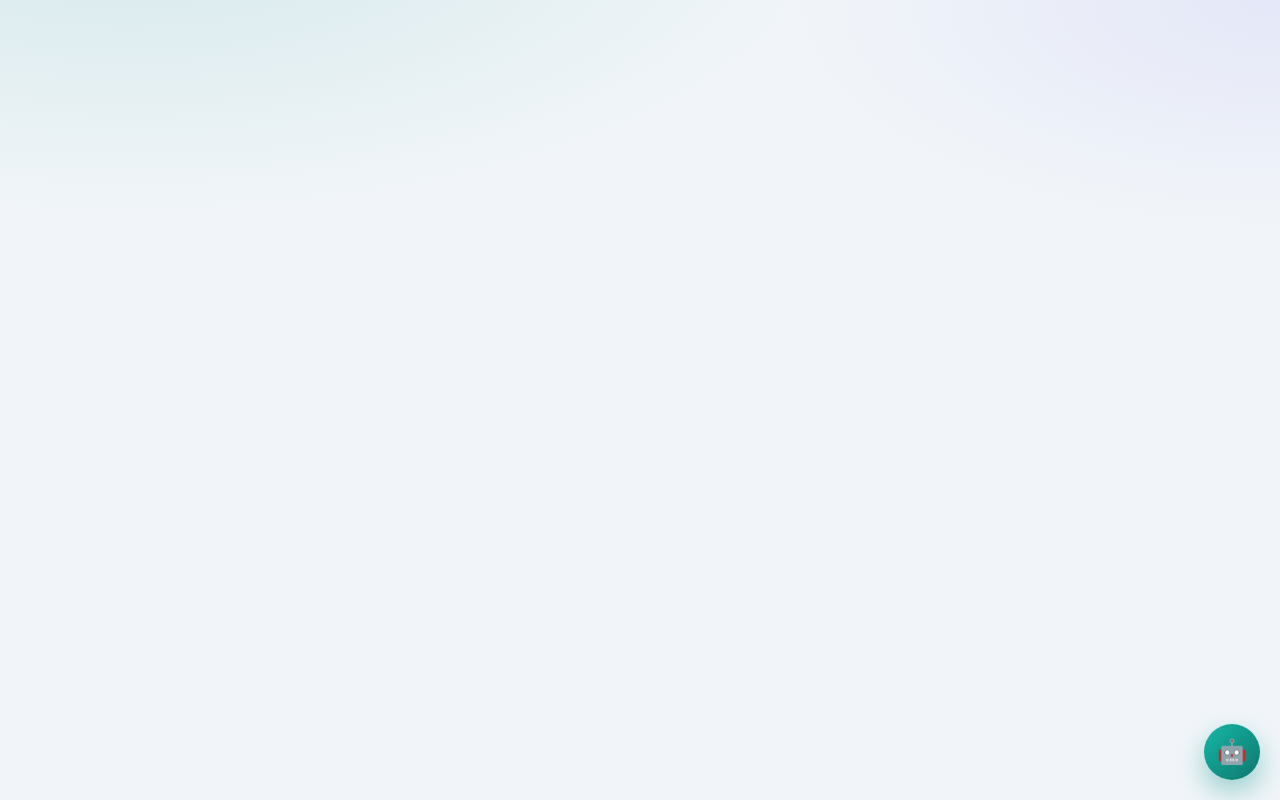
Test: AssistantWidget › abre el panel, muestra sugerencias y responde
This screenshot has width=1280, height=800.
Click the button named "Abrir asistente" at (1232, 752), box top-left (1204, 724), bottom-right (1260, 780)
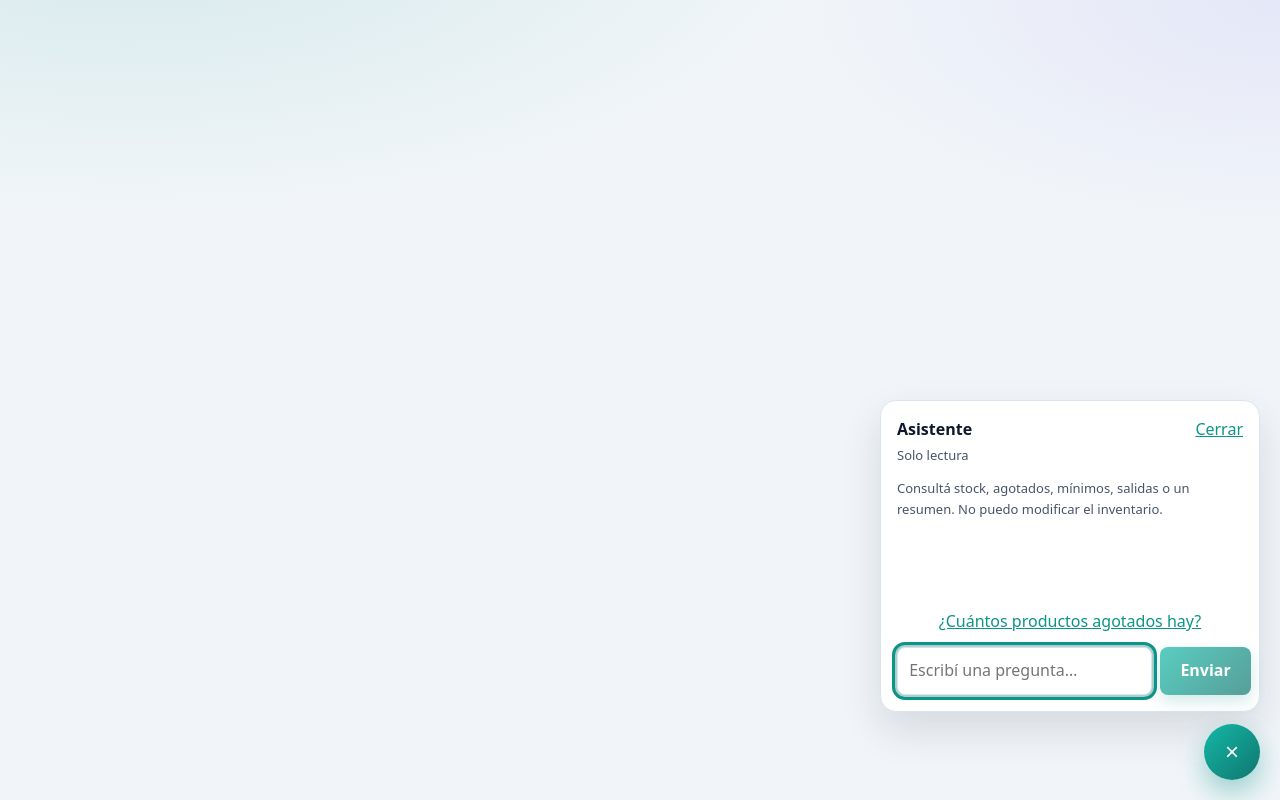
Now the dialog named "Asistente de inventario" is shown, box top-left (880, 400), bottom-right (1260, 712)
Click the button "¿Cuántos productos agotados hay?" at (1070, 622), box top-left (897, 609), bottom-right (1243, 635)
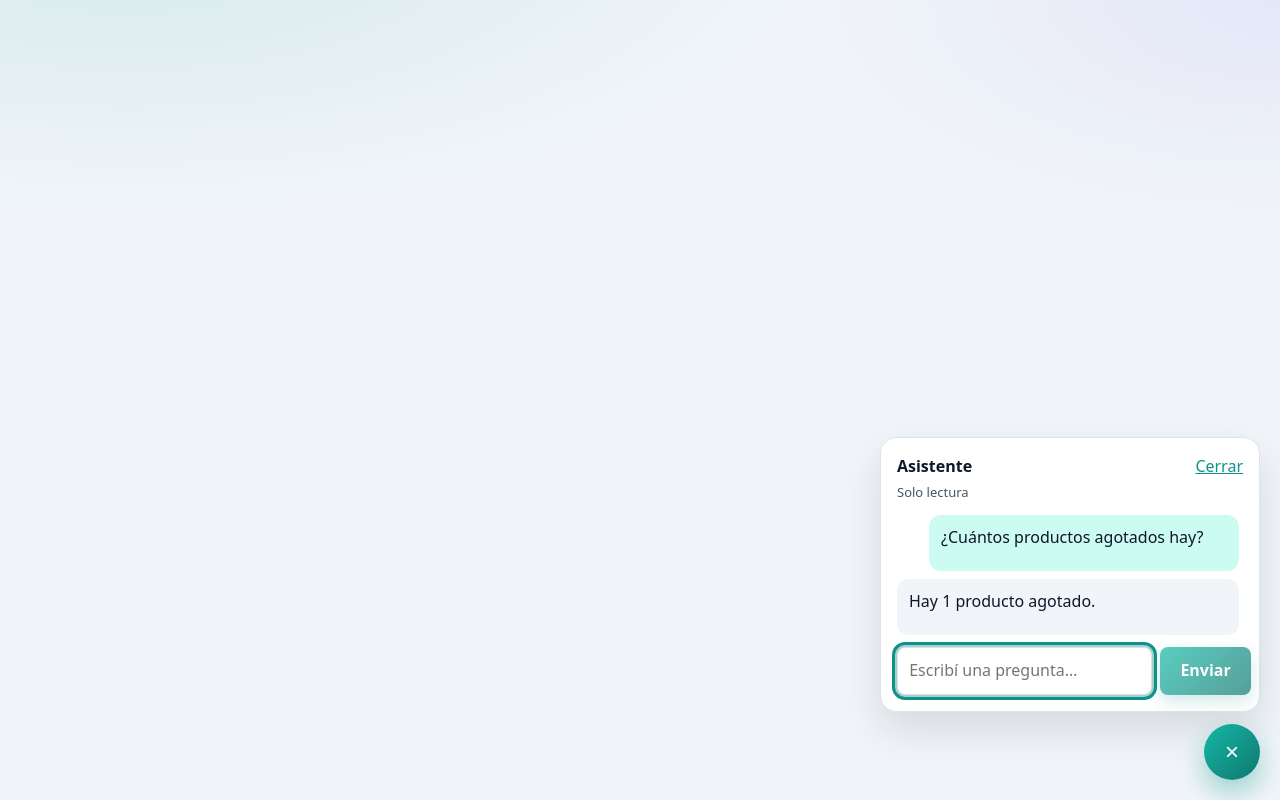
Now the text "Hay 1 producto agotado." is shown, box top-left (909, 590), bottom-right (1095, 612)
